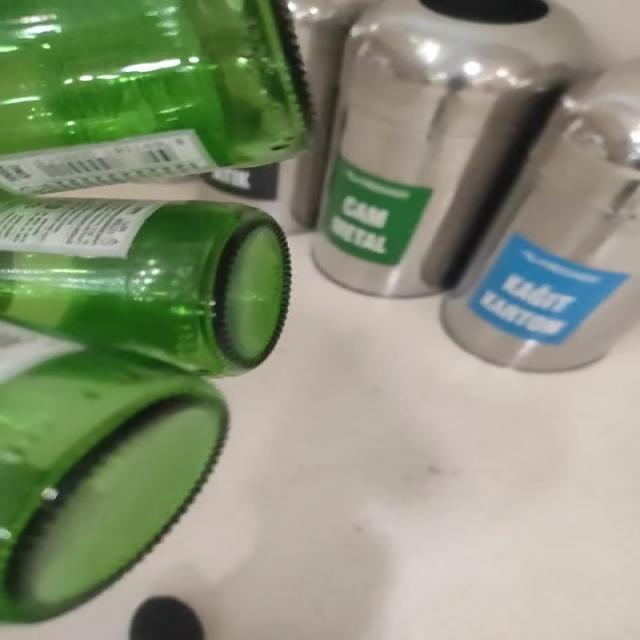Glass: (0, 0, 307, 624)
